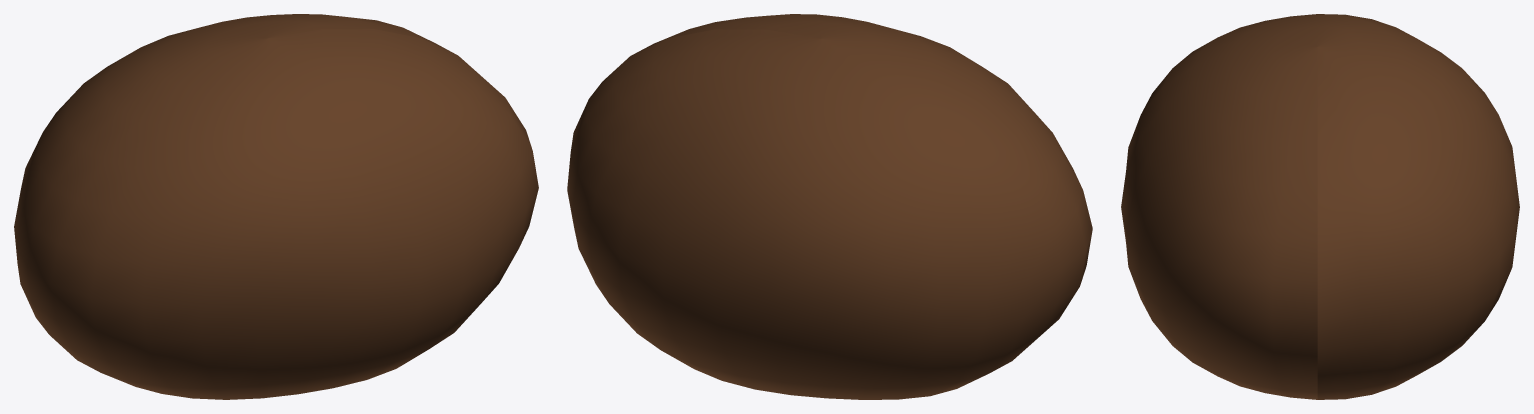
Rendered from guti_tamarind_seed.glb.
3 views of the same model, side by side, from view 1: azimuth 30°, elevation 25°; view 2: azimuth 150°, elevation 25°; view 3: azimuth 270°, elevation 25° (orthographic). The views are drawn at different scales.
Visible parts, largest first — view 1: guti_tamarind_seed; view 2: guti_tamarind_seed; view 3: guti_tamarind_seed.
Part boxes in pixels (box(x1,y1,x2,y2)): guti_tamarind_seed: box(14, 14, 538, 399); guti_tamarind_seed: box(567, 14, 1092, 399); guti_tamarind_seed: box(1121, 14, 1519, 399).
Size of the model in its own units: 0.025 by 0.015 by 0.019.
